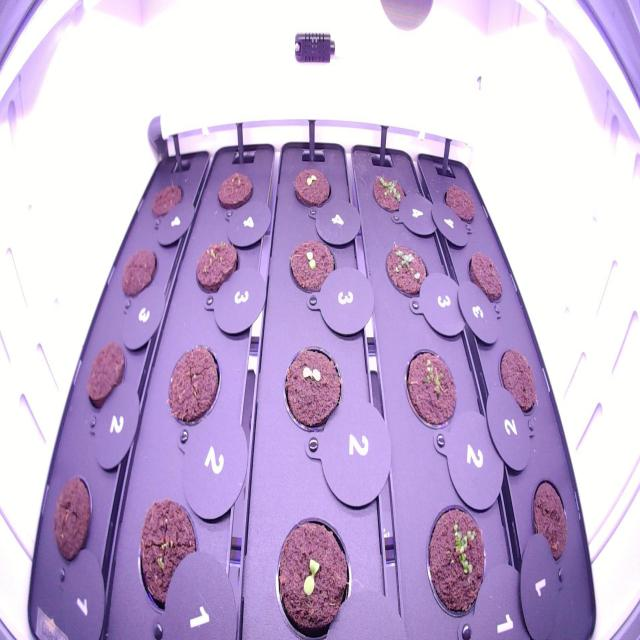germination: (268, 508, 360, 639), (133, 492, 210, 626), (421, 496, 494, 632), (279, 338, 345, 438), (400, 341, 460, 435), (285, 231, 339, 302), (381, 237, 432, 308), (192, 233, 240, 301), (288, 162, 335, 215), (368, 168, 410, 220)
pod: (161, 333, 223, 436), (45, 467, 97, 573), (527, 473, 570, 569), (80, 335, 128, 419), (494, 341, 541, 422), (463, 244, 506, 309), (118, 242, 160, 306), (209, 163, 258, 217), (439, 176, 479, 232), (144, 175, 186, 228)
